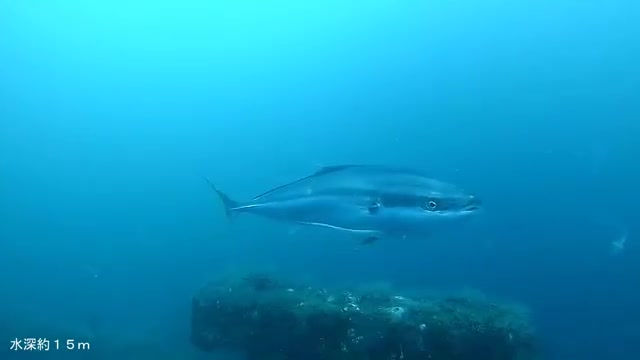hamati: (205, 158, 490, 254)
